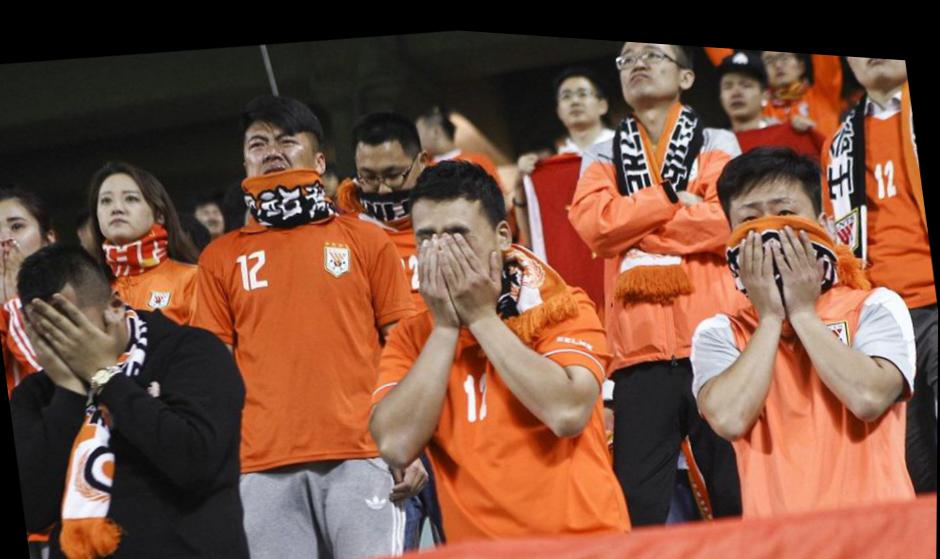NONE: (28, 270, 135, 379), (414, 205, 502, 296), (240, 123, 307, 193), (618, 33, 679, 100), (1, 202, 51, 278), (99, 179, 151, 237), (558, 73, 602, 126), (722, 59, 763, 108), (845, 45, 910, 74), (763, 41, 803, 75), (199, 199, 229, 233)
OK: (732, 174, 834, 281)
WRONG: (352, 134, 416, 212)
